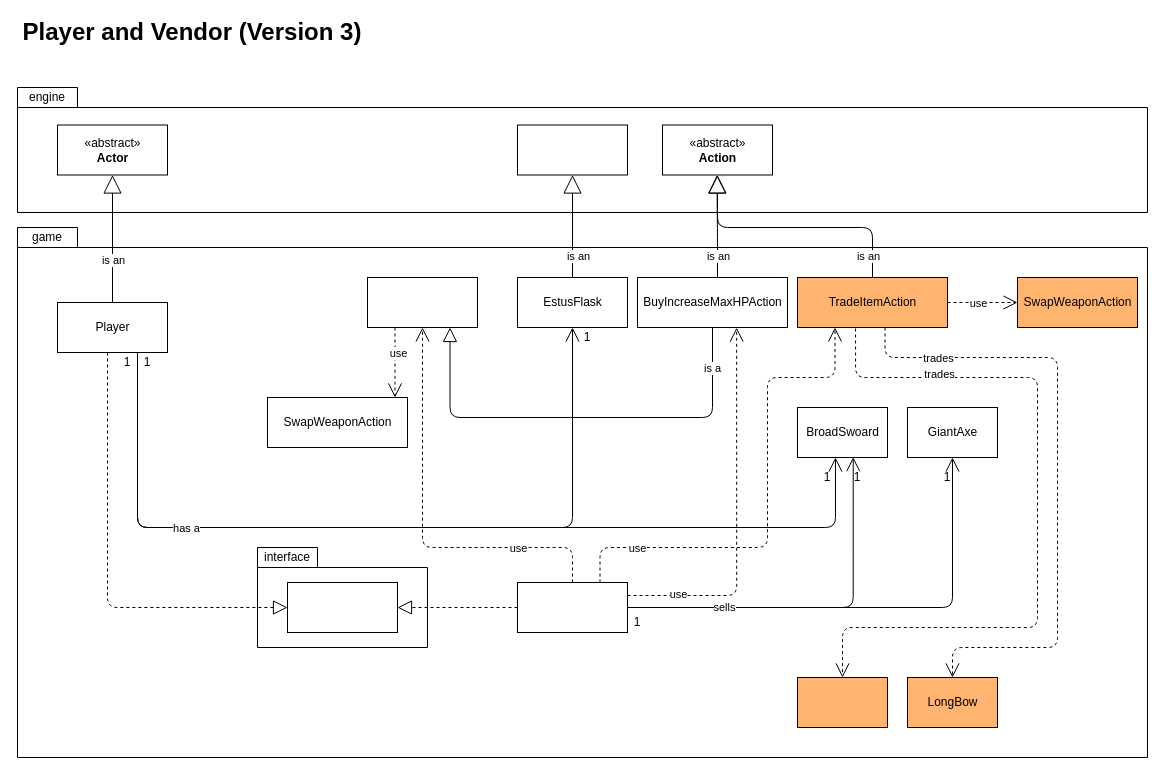
Some shapes in this 1165 by 775 pixel diagram are drawn without their labels. Here are the shapes that lost their labels. From the top down, the centre of each, then its label:
At (572,149): "Item".
At (422,302): "BuyItemAction".
At (342,607): "«interface» Soul".
At (572,607): "Vendor".
At (842,702): "GreatMachete".
